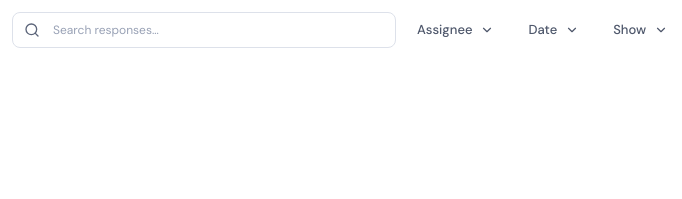
Scenario: ResponsesToolbar › offers Me and Unassigned first in the Assignee menu, then closes after a selection
Click the button "Assignee" at (456, 30), box [404,14,508,46]
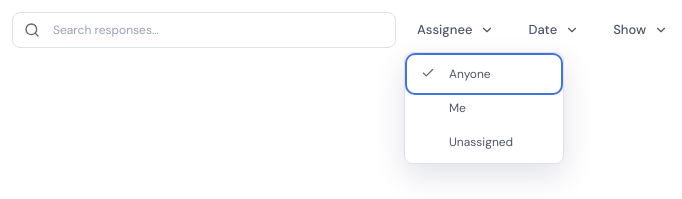
Click the menu item "Unassigned" at (484, 142), box [409,125,559,159]
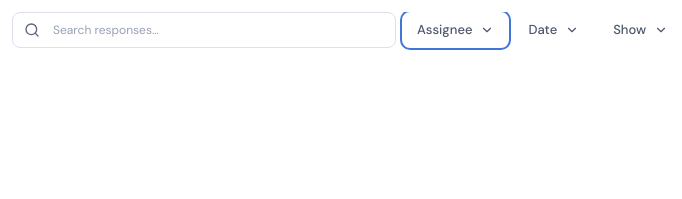
Now the menu is gone
